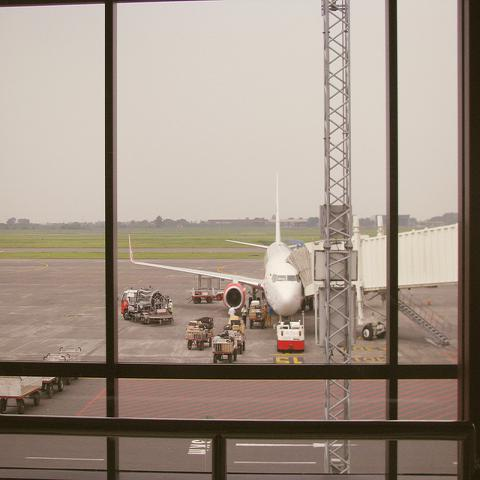truck: (121, 285, 172, 324), (185, 315, 215, 352), (212, 324, 238, 364), (249, 301, 266, 329)
